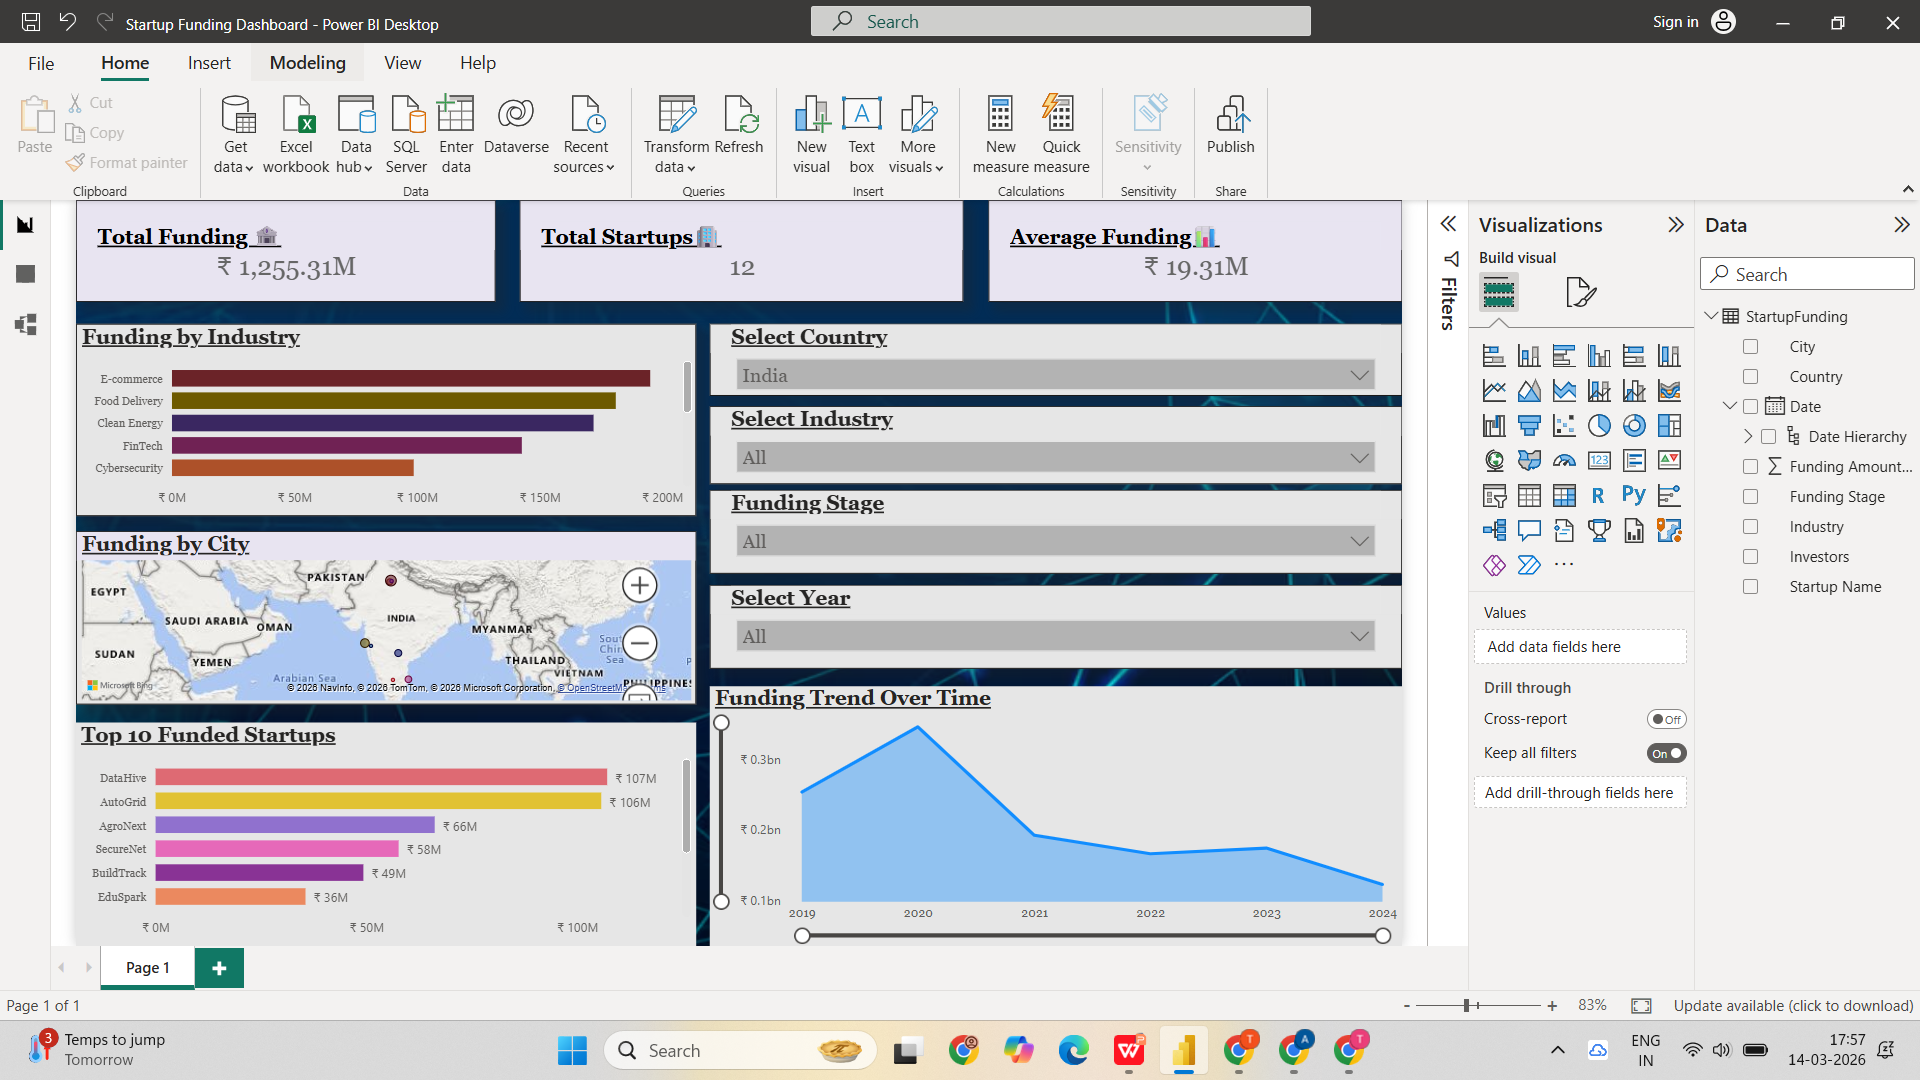

The page's visual inventory and layout, read from the dashboard file:
{"tool":"powerbi","page":{"name":"Page 1","canvas":[1280,720],"ordinal":0},"visuals":[{"type":"card","title":"Total Funding 🏦","fields":{"Values":["Sum(StartupFunding.Funding Amount ($))"]},"box":[0,0,404.8,98.8],"z":0},{"type":"card","title":"Total Startups🏢","fields":{"Values":["Count(StartupFunding.Industry)"]},"box":[428.1,0,428.1,98.8],"z":1},{"type":"card","title":"Average Funding📊","fields":{"Values":["Avg(StartupFunding.Funding Amount ($))"]},"box":[881,0,399.3,98.8],"z":2},{"type":"clusteredBarChart","title":"Funding by Industry","fields":{"Category":["StartupFunding.Industry"],"Y":["Sum(StartupFunding.Funding Amount ($))"]},"box":[0,119.4,598.3,185.2],"z":3},{"type":"map","title":"Funding by City","fields":{"Size":["Sum(StartupFunding.Funding Amount ($))"],"Category":["StartupFunding.City"]},"box":[0,319.7,598.3,167.4],"z":4},{"type":"barChart","title":"Top 10 Funded Startups","fields":{"Category":["StartupFunding.Startup Name"],"Y":["Sum(StartupFunding.Funding Amount ($))"]},"box":[0,503.6,598.3,216.8],"z":5},{"type":"slicer","title":"Select Country","fields":{"Values":["StartupFunding.Country"]},"box":[612,119.4,668.3,70],"z":6},{"type":"slicer","title":"Select Industry","fields":{"Values":["StartupFunding.Industry"]},"box":[612,199,668.3,75.5],"z":7},{"type":"slicer","title":"Funding Stage","fields":{"Values":["StartupFunding.Funding Stage"]},"box":[612,279.9,668.3,81],"z":8},{"type":"slicer","title":"Select Year","fields":{"Values":["StartupFunding.Date.Variation.Date Hierarchy.Year"]},"box":[612,371.9,668.3,81],"z":9},{"type":"areaChart","title":"Funding Trend Over Time","fields":{"Y":["Sum(StartupFunding.Funding Amount ($))"],"Category":["StartupFunding.Date.Variation.Date Hierarchy.Year"]},"box":[612,469.3,668.3,251.1],"z":10}]}

Visuals, with their boxes on the page's 1280x720 design canvas (x1, y1, x2, y2). These are canvas units, not pixel positions in the 1920x1080 screenshot, which may show the page scaled, cropped or inside an application window:
"Total Funding 🏦" card: 0,0,405,99
"Total Startups🏢" card: 428,0,856,99
"Average Funding📊" card: 881,0,1280,99
"Funding by Industry" clusteredBarChart: 0,119,598,305
"Funding by City" map: 0,320,598,487
"Top 10 Funded Startups" barChart: 0,504,598,720
"Select Country" slicer: 612,119,1280,189
"Select Industry" slicer: 612,199,1280,274
"Funding Stage" slicer: 612,280,1280,361
"Select Year" slicer: 612,372,1280,453
"Funding Trend Over Time" areaChart: 612,469,1280,720
